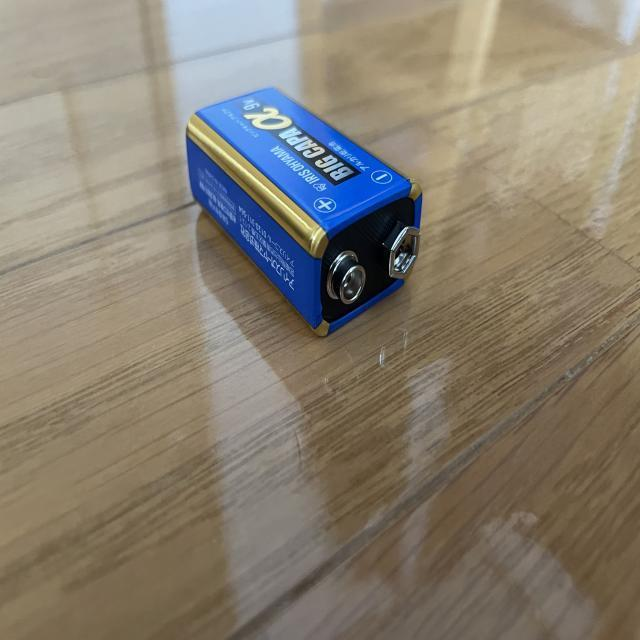9V: (184, 88, 425, 341)
